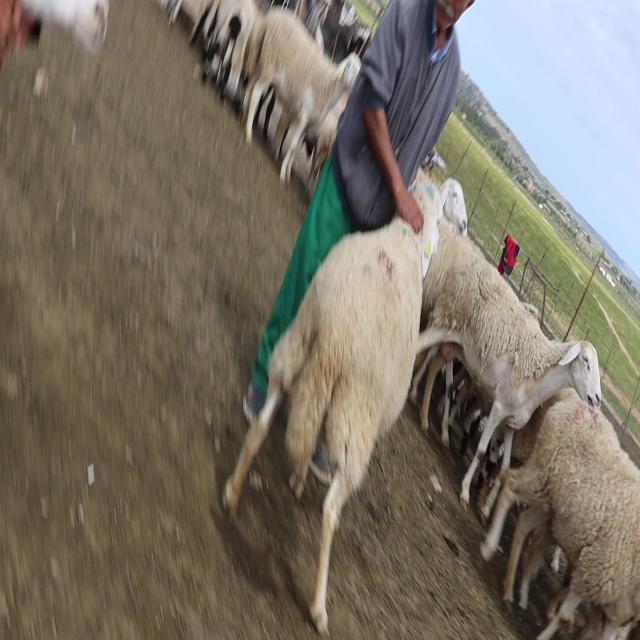Score_5: (222, 180, 445, 632)
